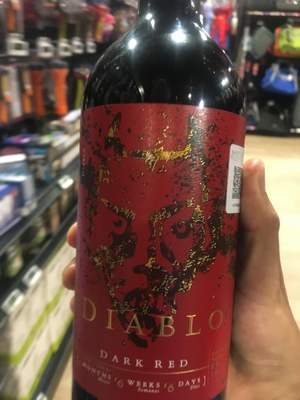diablo dark red: (76, 7, 240, 400)
